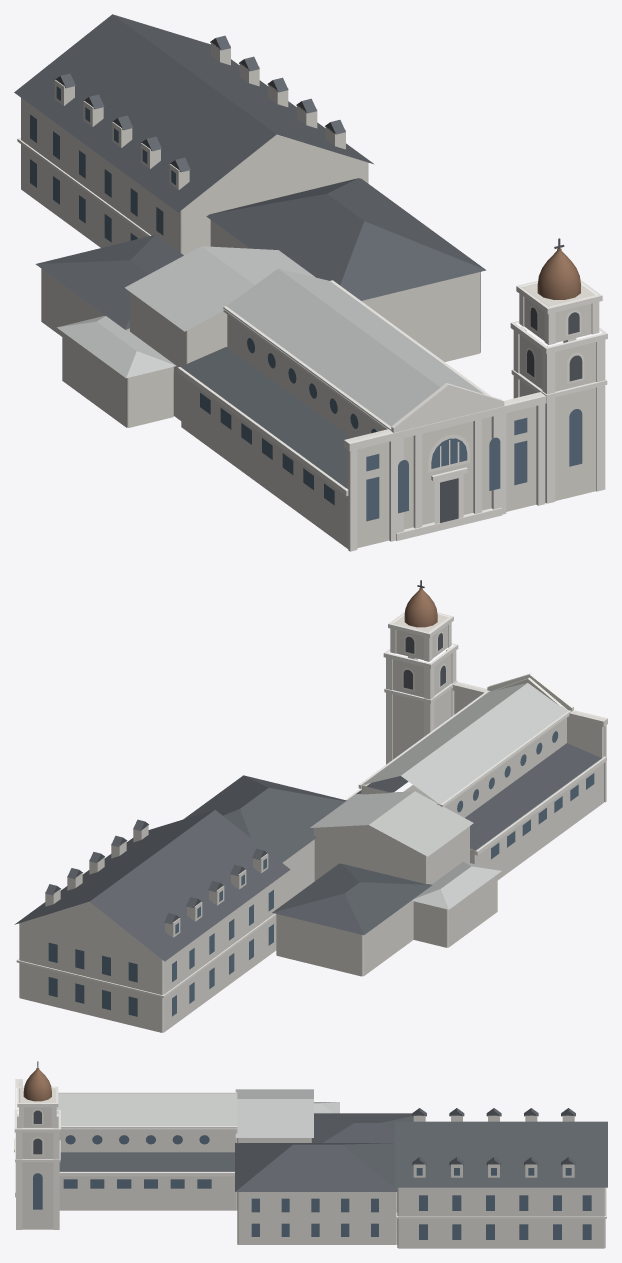
Rendered from nola-st-augustine-church.glb.
The picture shows the model from 3 angles, top to bottom: view 1: azimuth 30°, elevation 25°; view 2: azimuth 150°, elevation 25°; view 3: azimuth 270°, elevation 25°; orthographic projection. The views are drawn at different scales.
Parts seen in each view (by area): view 1: St. Augustine Church; view 2: St. Augustine Church; view 3: St. Augustine Church.
Part boxes in pixels (x1,y1,x2,y2): St. Augustine Church: (14, 14, 607, 551); St. Augustine Church: (14, 580, 607, 1032); St. Augustine Church: (14, 1061, 607, 1248).
Size of the model in its own units: 36.3 by 23.6 by 79.8.
